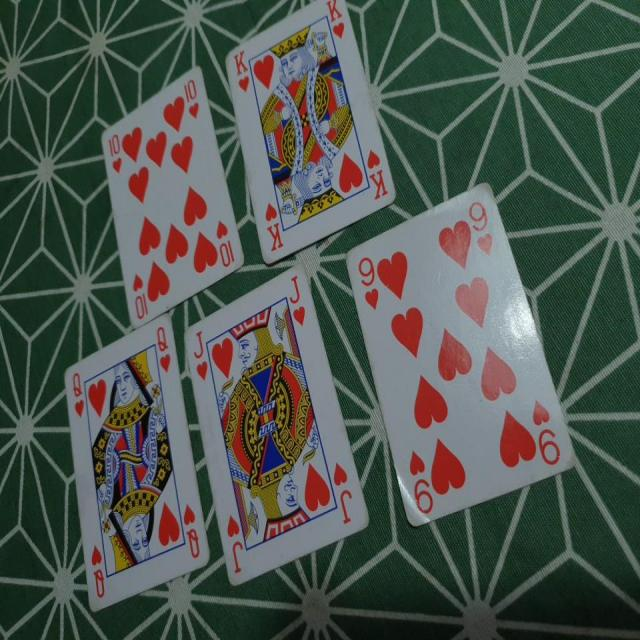10 Hearts: (94, 55, 251, 328)
9 Hearts: (341, 173, 584, 530)
J Hearts: (185, 258, 376, 597)
K Hearts: (223, 7, 396, 272)
Q Hearts: (58, 313, 212, 620)
